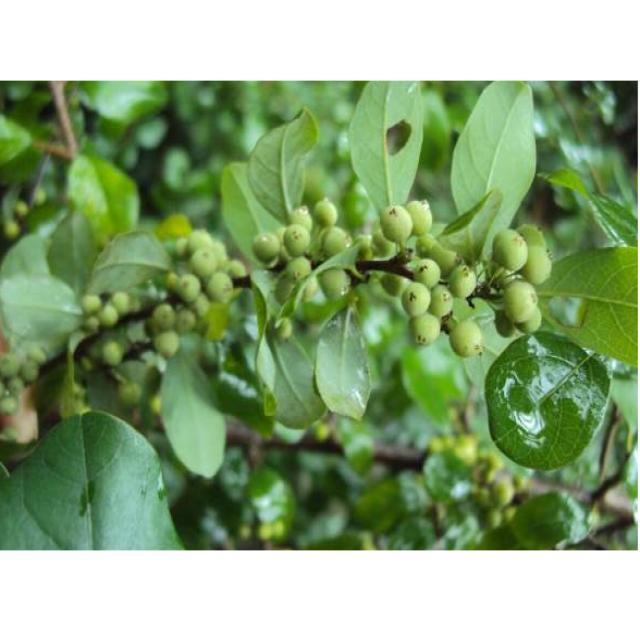Gugal: (67, 81, 621, 536)
